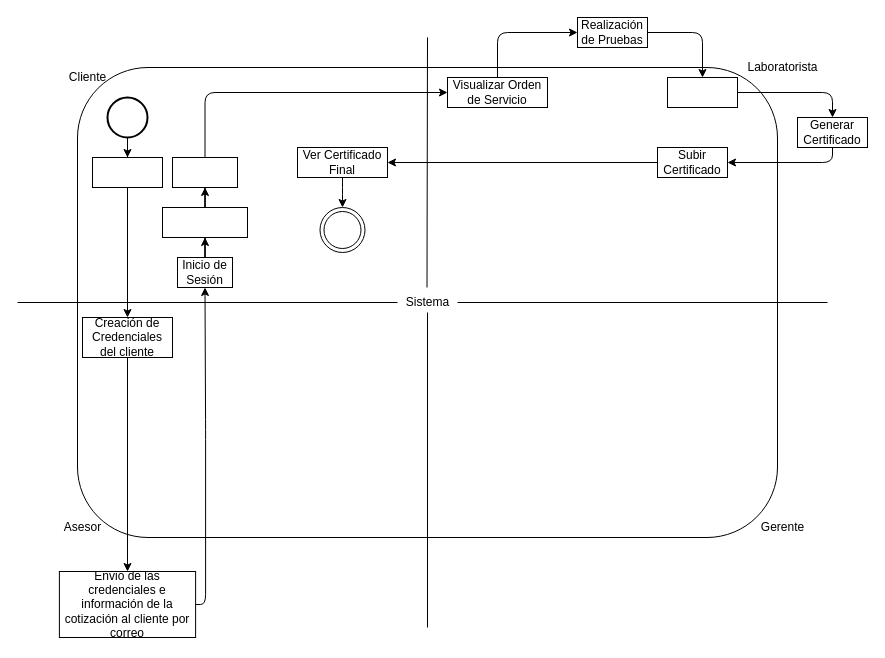
This 885x658 diagram has some shape labels left out. The shapes that lost their labels are listed below. From the top down, each one's box as (x1, y1, x2, y2) in pixels, then its label:
(666, 76, 738, 108): Generar Resultados
(92, 156, 162, 188): Creación de Cotización
(172, 156, 238, 188): Solicitud de servicio
(162, 206, 248, 238): Actualización de Información
